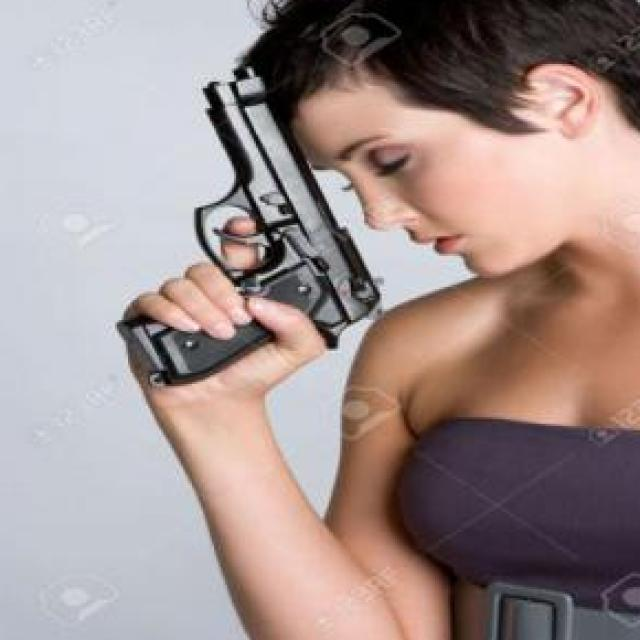pistol: (104, 58, 384, 390)
